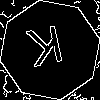K: (25, 25, 68, 76)
